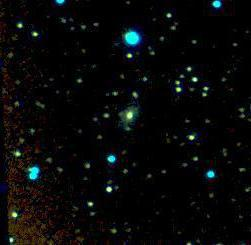star: (103, 98, 133, 128)
